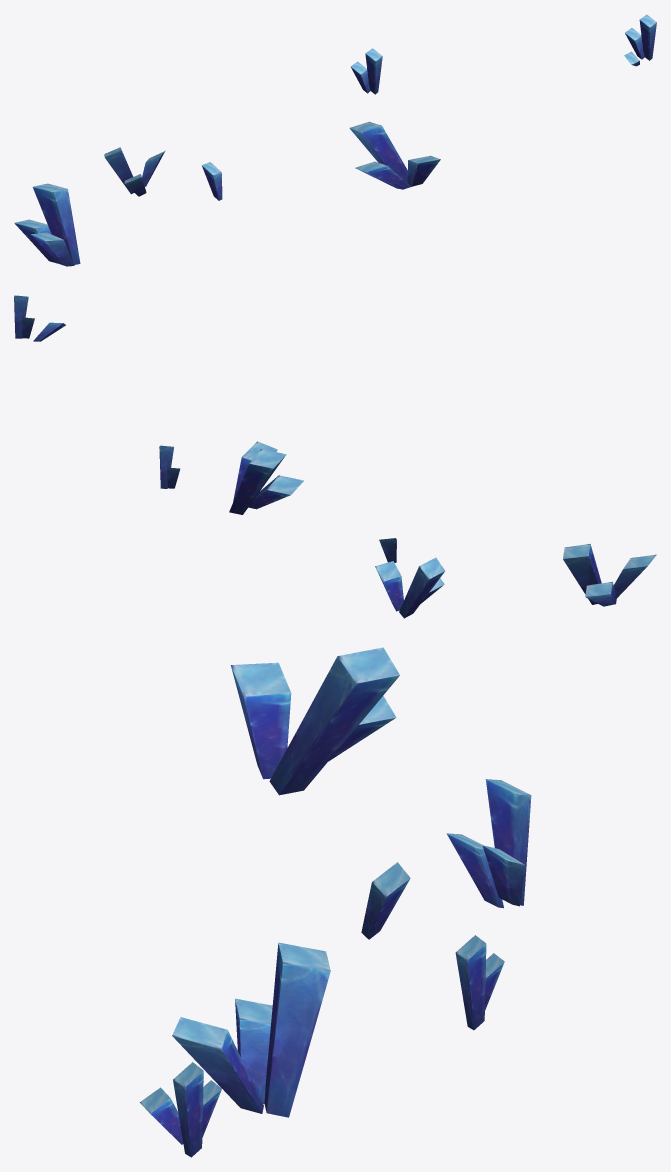
File: Area10_4_y.FBX
3 views of the same model, one above another, from view 1: azimuth 30°, elevation 25°; view 2: azimuth 150°, elevation 25°; view 3: azimuth 270°, elevation 25° (orthographic). The views are drawn at different scales.
Parts seen in each view (by area): view 1: Area10_4_y; view 2: Area10_4_y; view 3: Area10_4_y.
Part boxes in pixels (left/top/right/bottom): Area10_4_y: left=14, top=14, right=656, bottom=266; Area10_4_y: left=14, top=295, right=656, bottom=618; Area10_4_y: left=140, top=647, right=531, bottom=1157.
Size of the model in its own units: 834 by 172 by 235.
